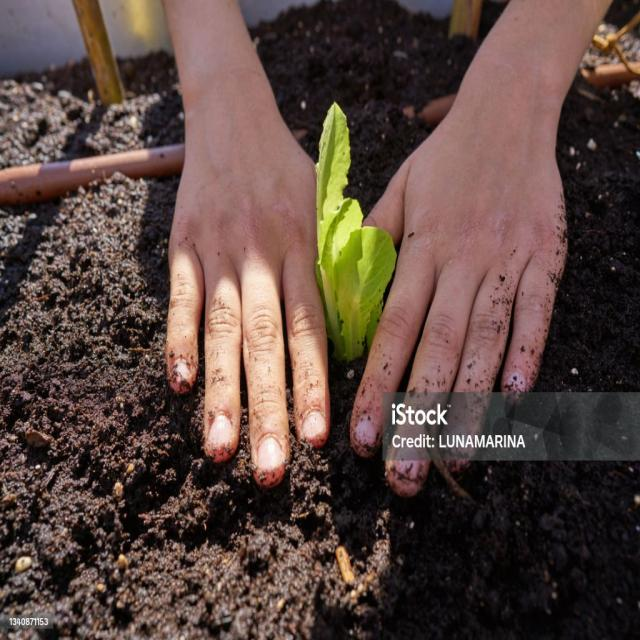Lettuce-Not-Ready-to-Harvest: (316, 103, 398, 361)
